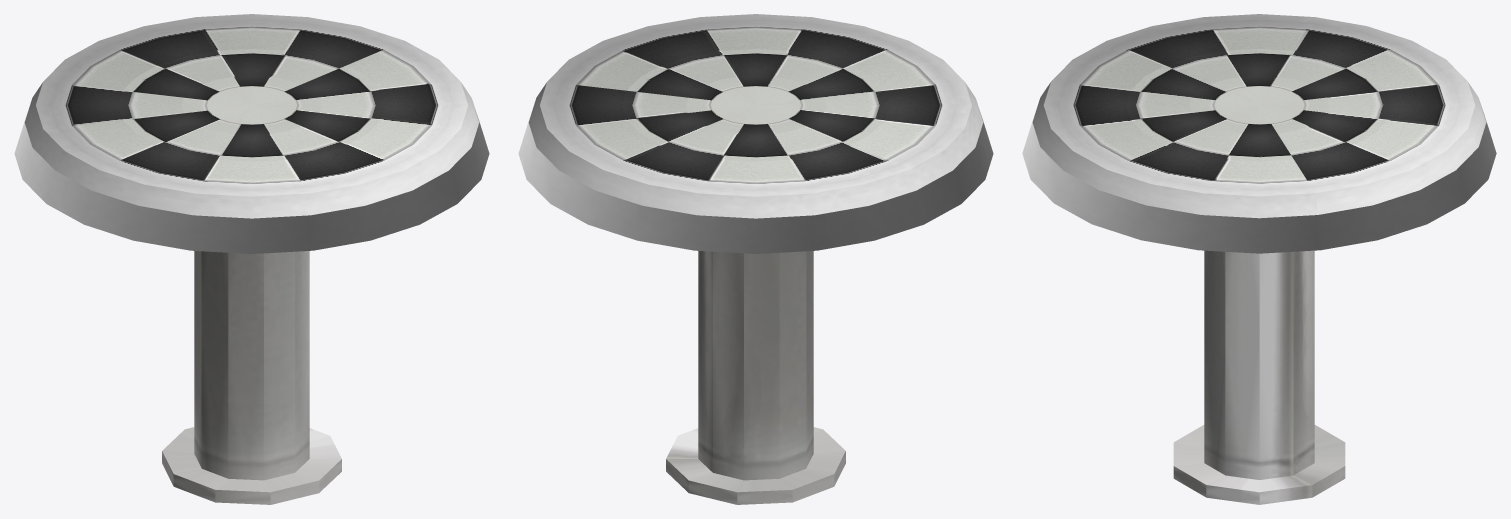
The model's file is Table.fbx.
The picture shows the model from 3 angles, left to right: view 1: azimuth 30°, elevation 25°; view 2: azimuth 150°, elevation 25°; view 3: azimuth 270°, elevation 25°; orthographic projection.
Parts seen in each view (by area): view 1: table_shaft; view 2: table_shaft; view 3: table_shaft.
Boxes of the visible parts, x1,y1,x2,y2 form: table_shaft: (14, 14, 489, 504); table_shaft: (518, 14, 993, 504); table_shaft: (1022, 14, 1496, 504).
Size of the model in its own units: 42.34 by 35.62 by 42.34.
Materials: 1 (1 with a texture image).
